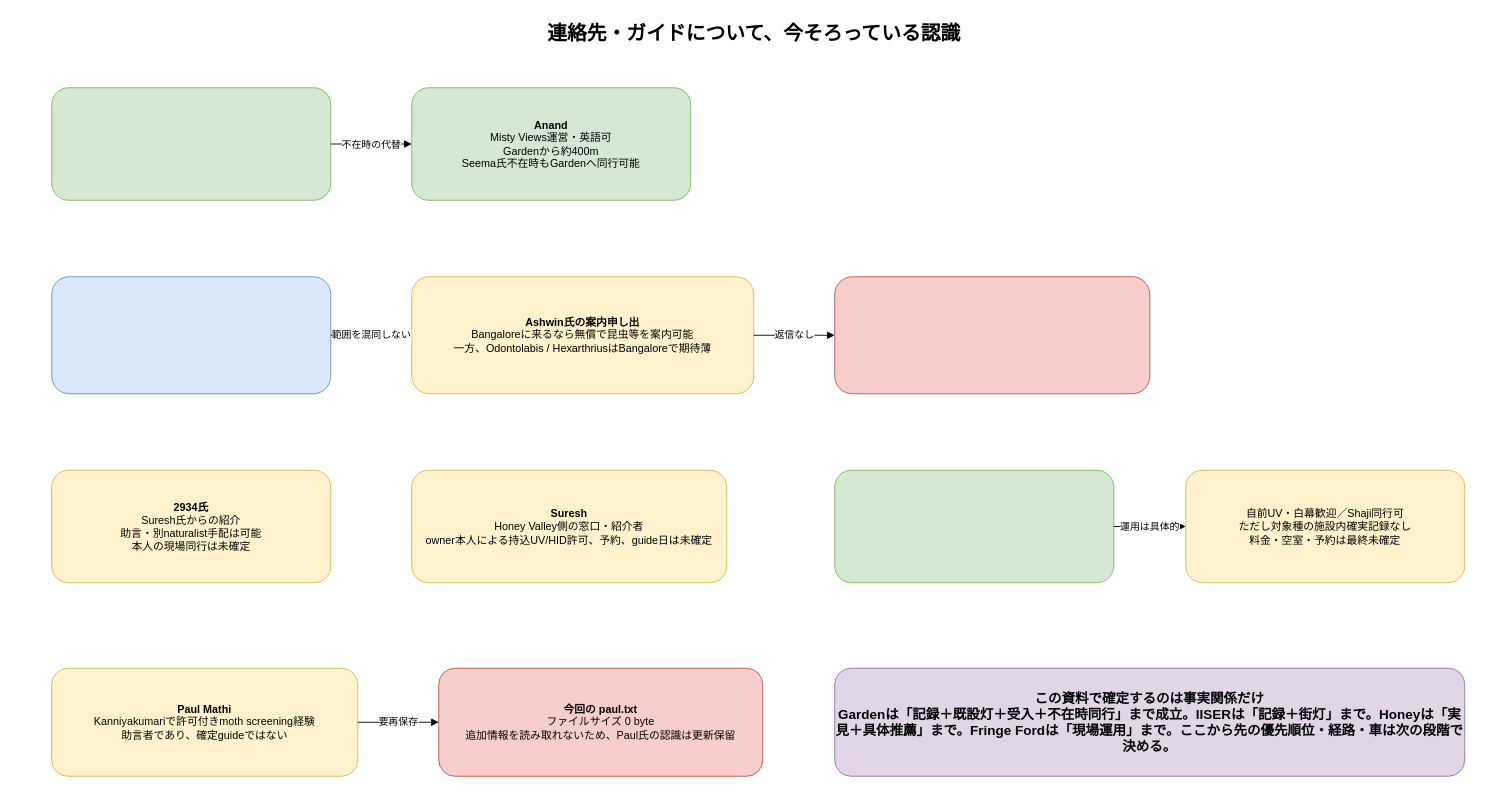
This 1507x792 diagram has some shape labels left out. The centre of each missing label's shape, as x and y in pixels:
Ashwin (ashwinv) Odontolabisの実見者 Honey Valleyを具体的に推薦 プロガイドではない: (x=191, y=335)
Fringe Ford Santosh＝予約窓口 Ahmed＝owner Shaji＝現地naturalist: (x=974, y=526)
Honeyで未回答の質問 本人が灯火した正確な土地・施設 HIDを森林斜面へ向けられる場所 所有者許可の取り方: (x=992, y=335)
Seema Merchant Serenity Garden owner 8/10まで現地 訪問と既設CFLでの観察を明確に歓迎: (x=191, y=143)
